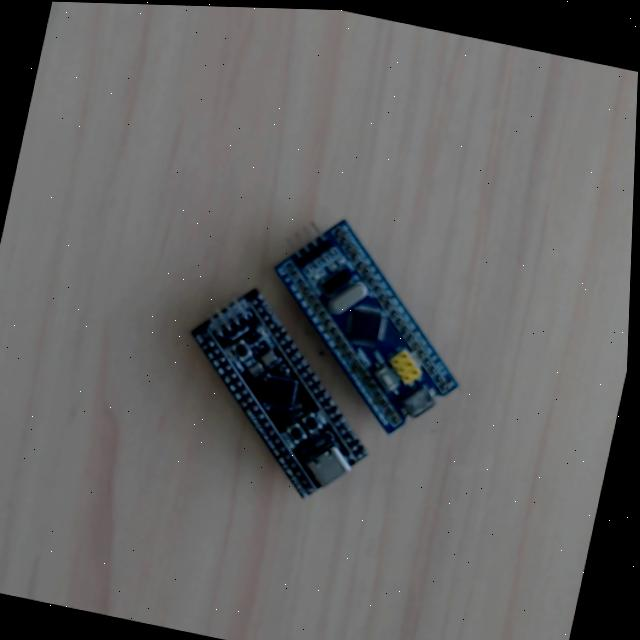STM32-Blackpill: (188, 284, 370, 500)
STM32-Bluepill: (273, 217, 459, 435)
